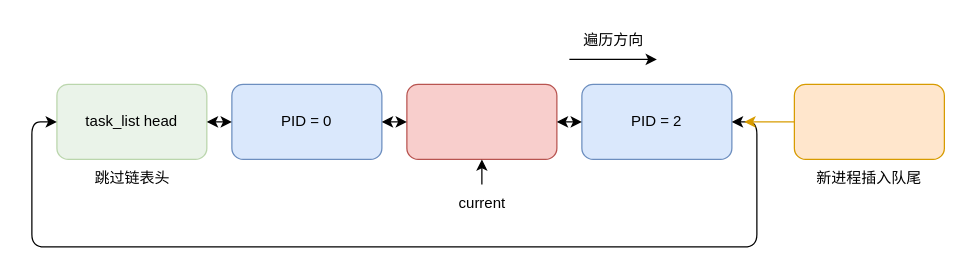
This 966x280 diagram has some shape labels left out. The shapes that lost their labels are listed below. From the top down, each one's centre as x and y in pixels, then its label:
At (481,121): "PID = 1".
At (868,121): "PID = 3".
